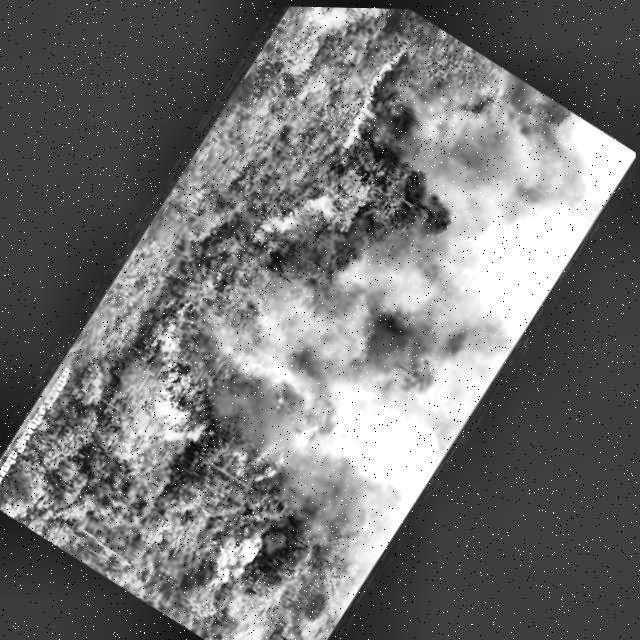Fire: (110, 317, 264, 470), (322, 25, 429, 165), (249, 165, 352, 272), (219, 429, 295, 498)
Smoke: (228, 41, 637, 531), (200, 254, 313, 375)
